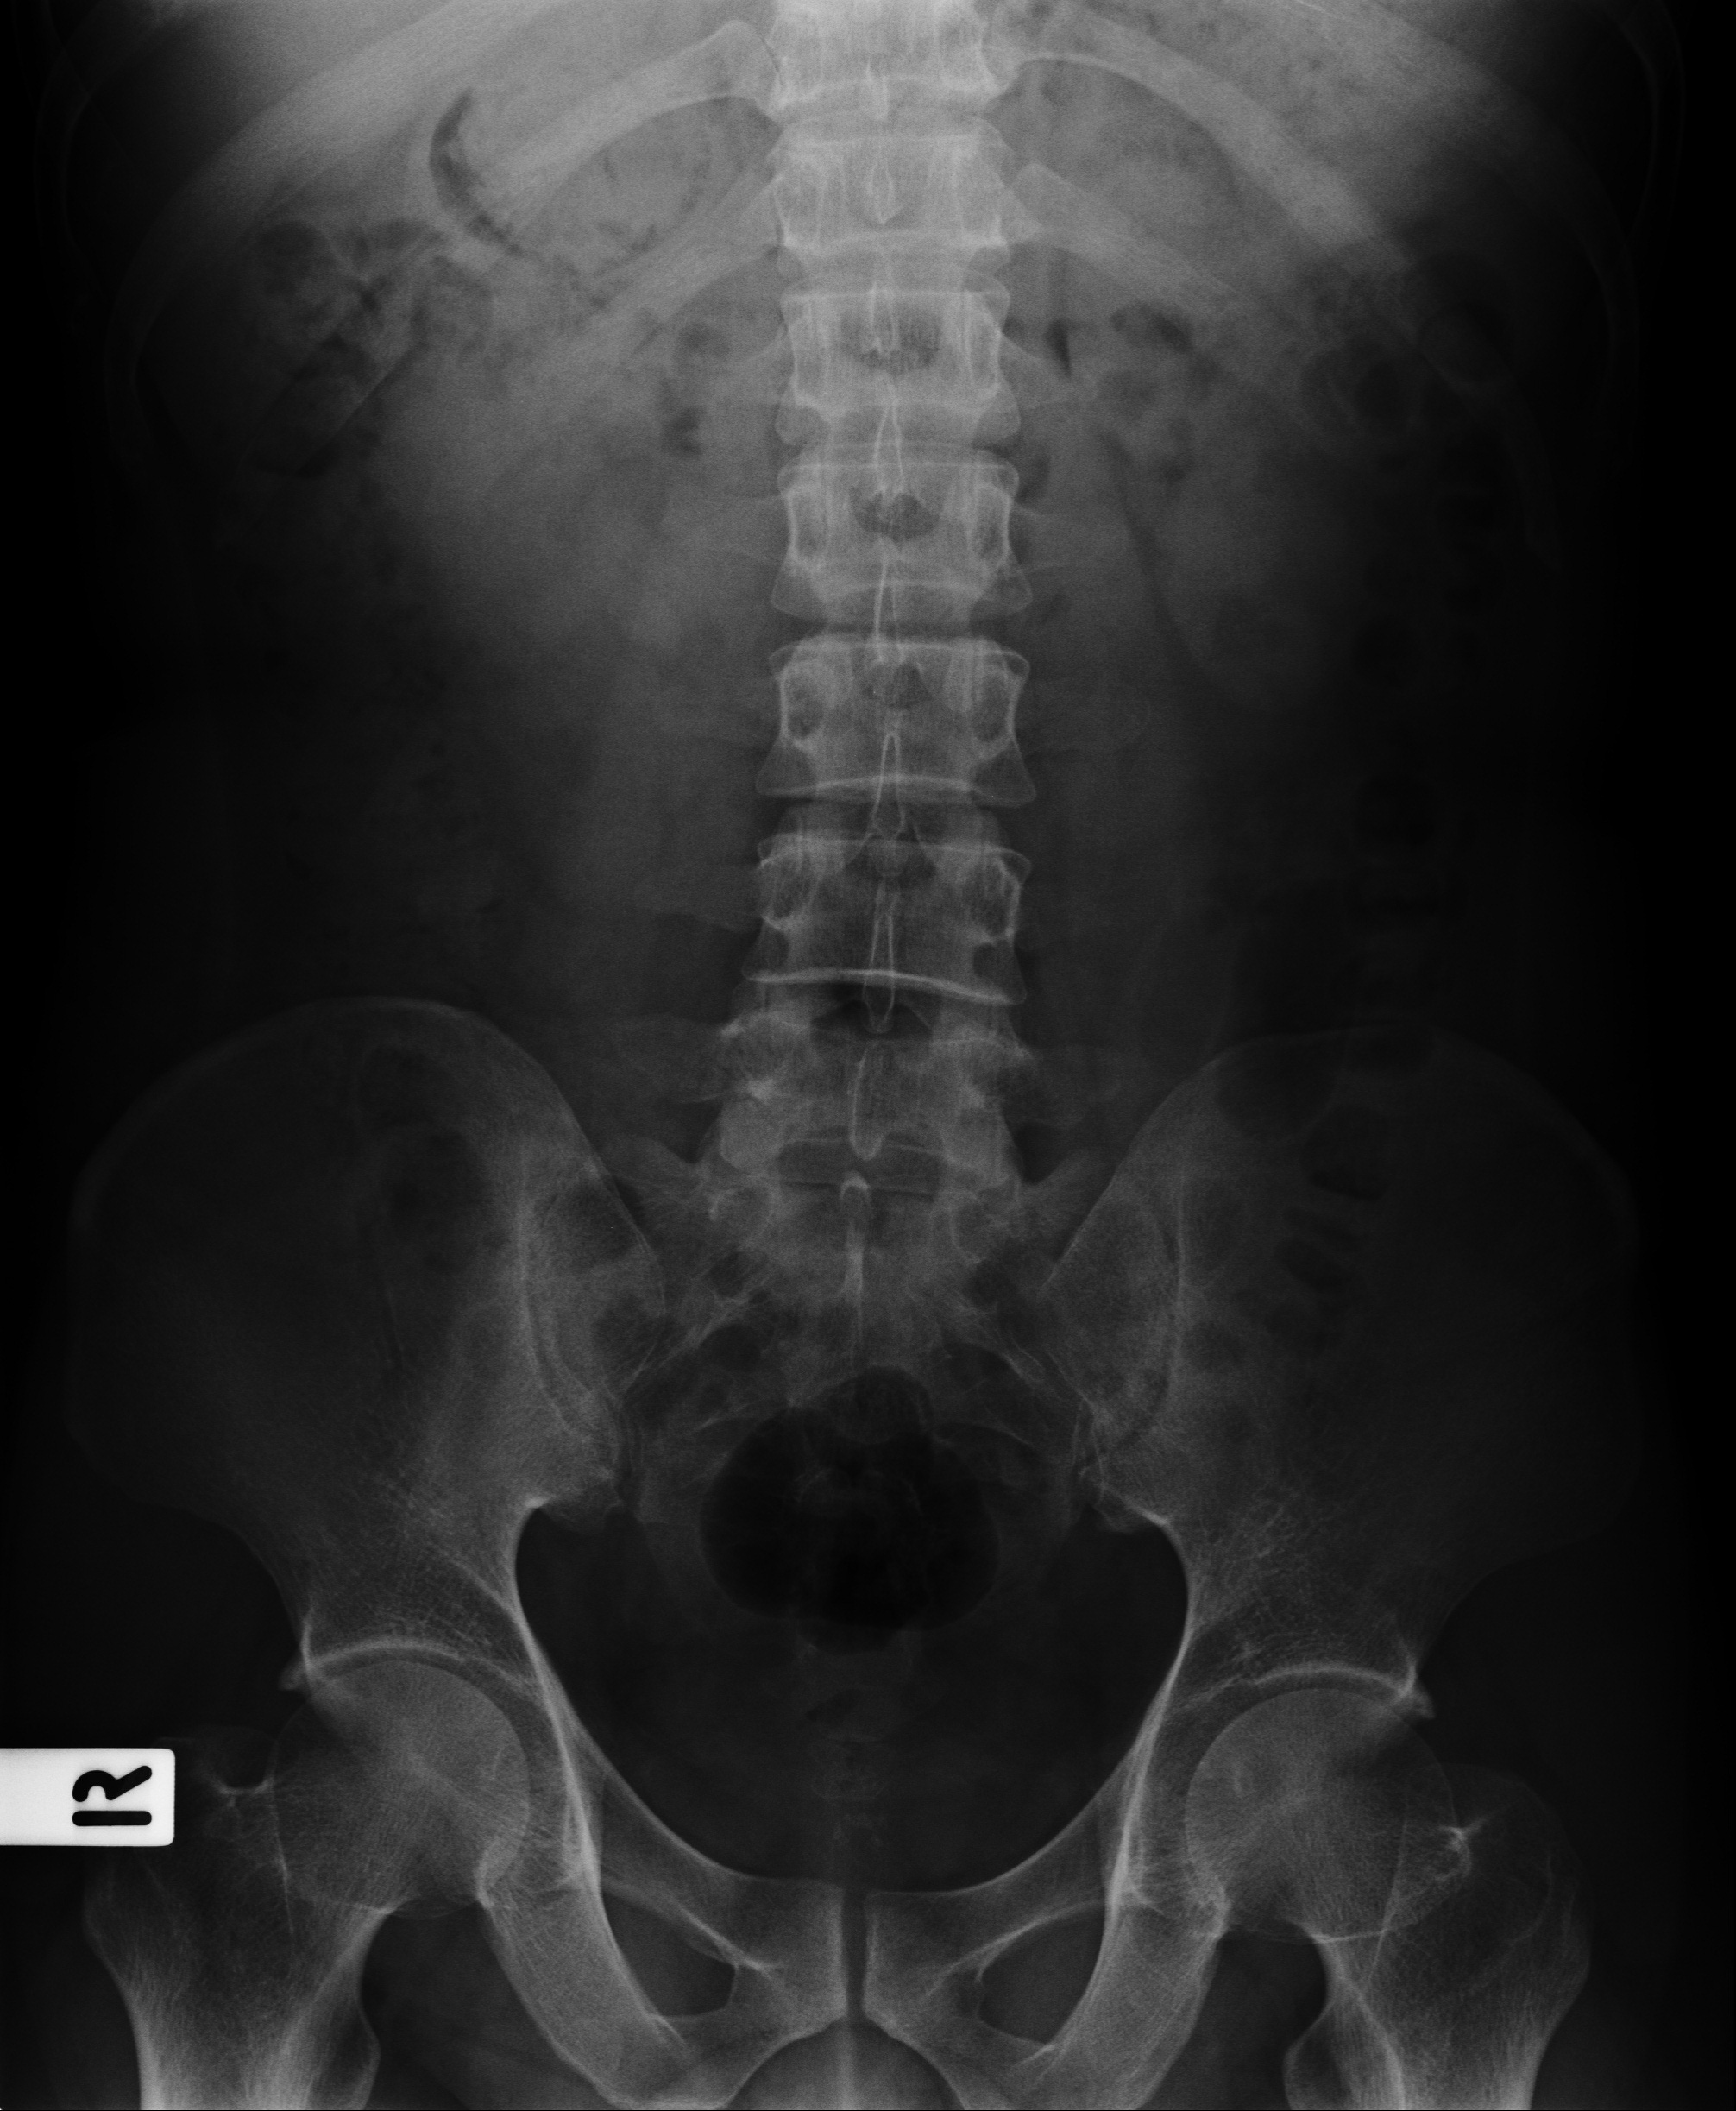lumbar scoliosis: (714, 25, 1036, 1257)
